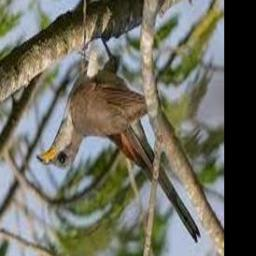Cuckoo: (36, 35, 200, 243)
